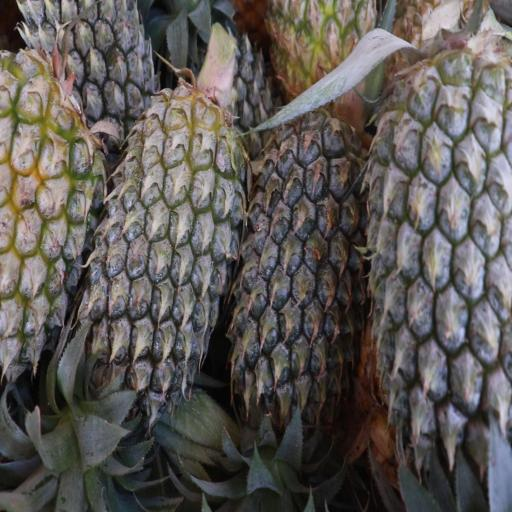------------------------------: (0, 62, 95, 367), (268, 0, 377, 113)
